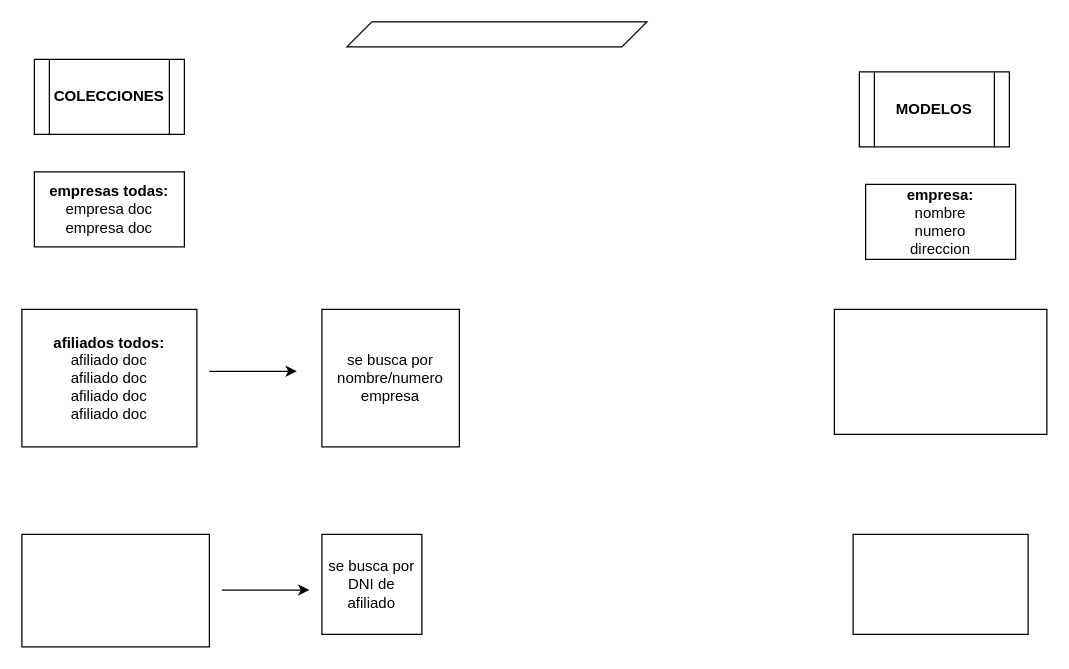
The diagram is 1069 pixels wide and 669 high, and some of its shapes have lost their labels. Here are the shapes that lost their labels. From the top down, the centre of each, then its label:
point 496,34: BASE DE DATOS SINDICATO
point 940,371: afiliado : _id nombre apellido dni empresa fecha afiliacion
point 115,590: familiares todos: familiar doc familiar doc familiar doc familiar doc
point 940,583: familiar: nombre apellido dni parentesco
